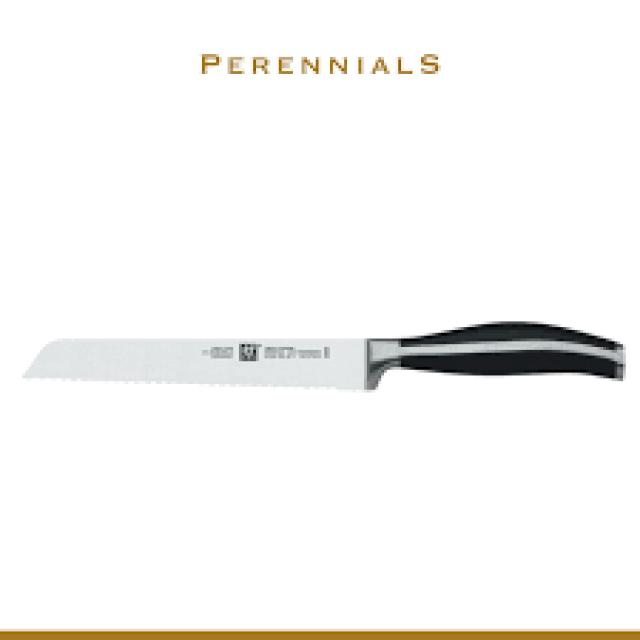Knife: (23, 321, 623, 390)
